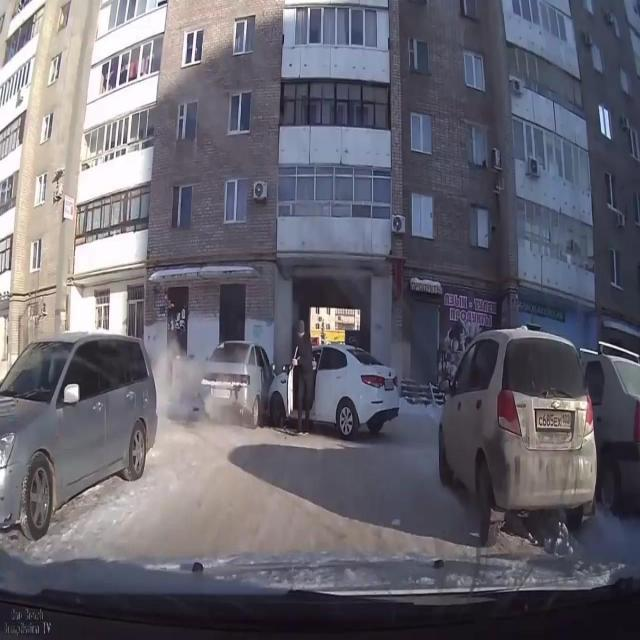multiple_accident: (187, 311, 331, 443)
normal: (425, 313, 607, 563), (0, 316, 169, 555)
